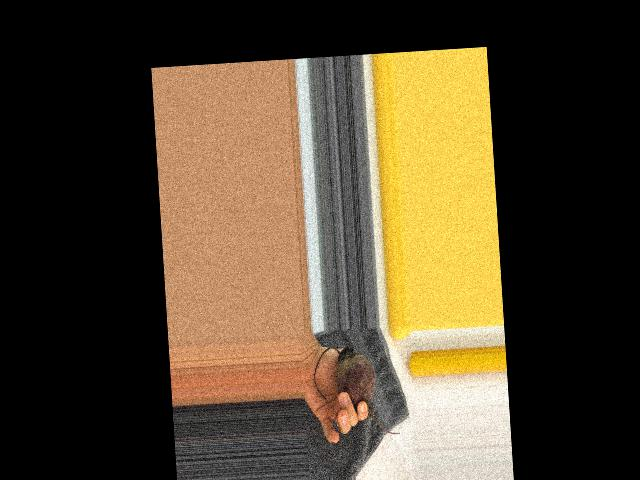beet: (312, 344, 399, 439)
